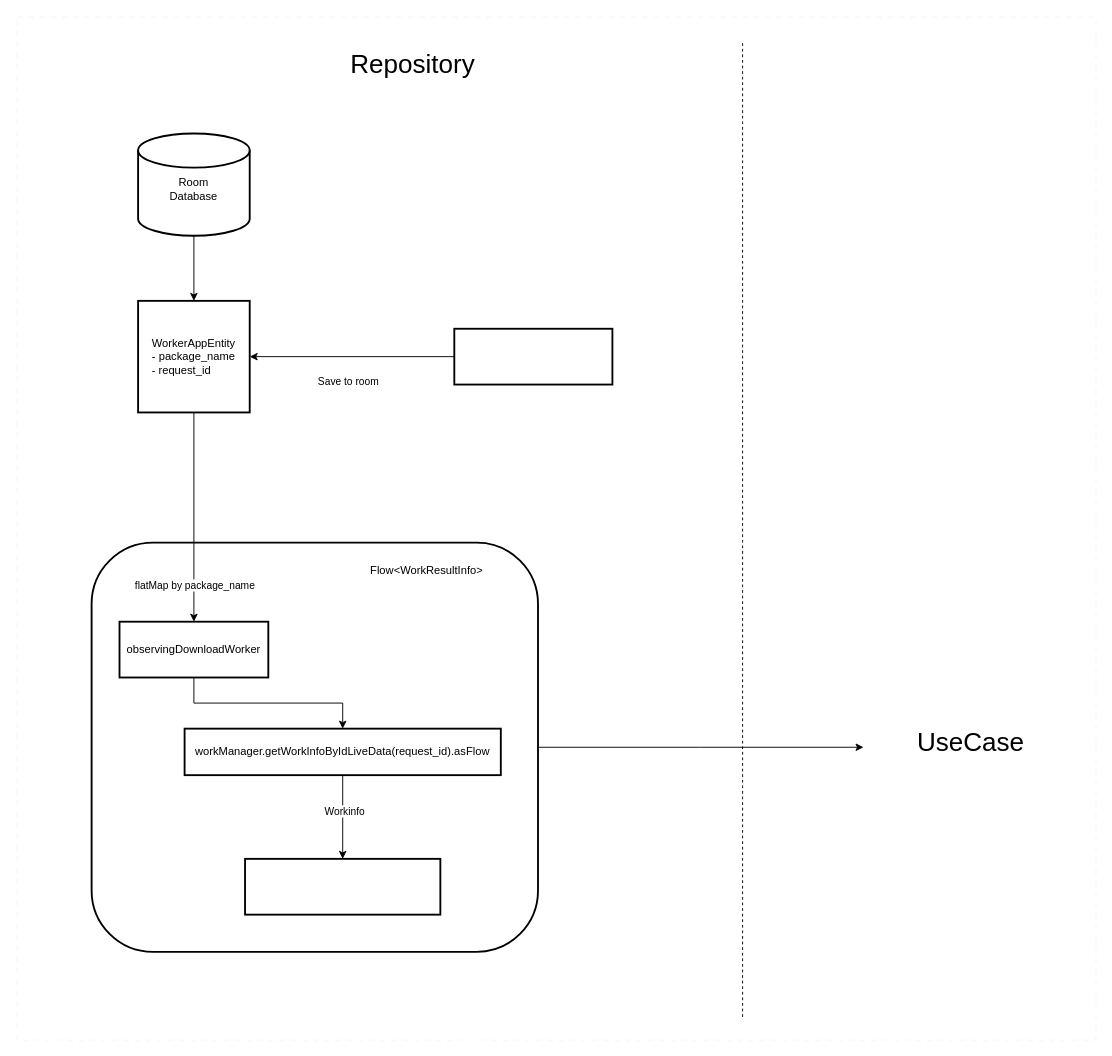
This 1112x1056 diagram has some shape labels left out. Each missing label, with the centre of its shape:
"requestDownloadWorker" belongs at [533,356].
"WorkInfoResult.Working(workInfo)" belongs at [342,886].
